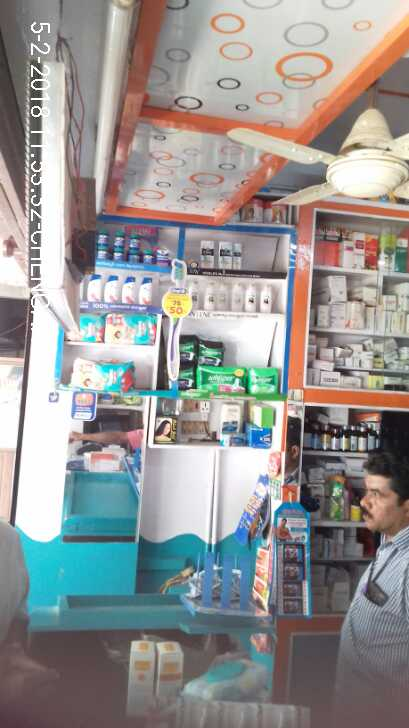vicks: (92, 229, 173, 263)
